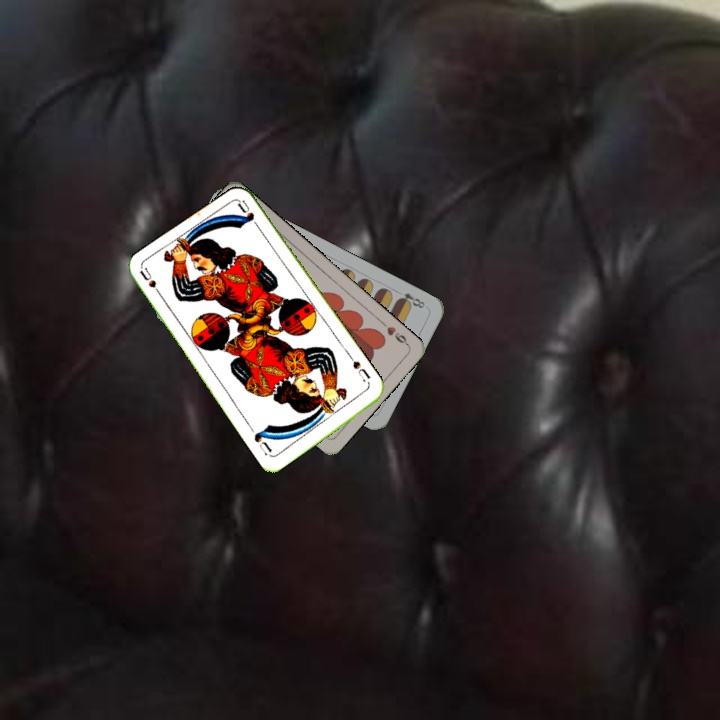E8: (392, 286, 428, 311)
H9: (377, 317, 411, 348)
SU: (136, 265, 166, 302), (345, 352, 373, 389)
